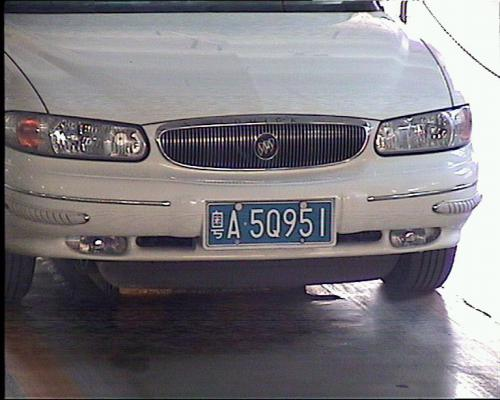Carplate: (202, 196, 342, 254)
